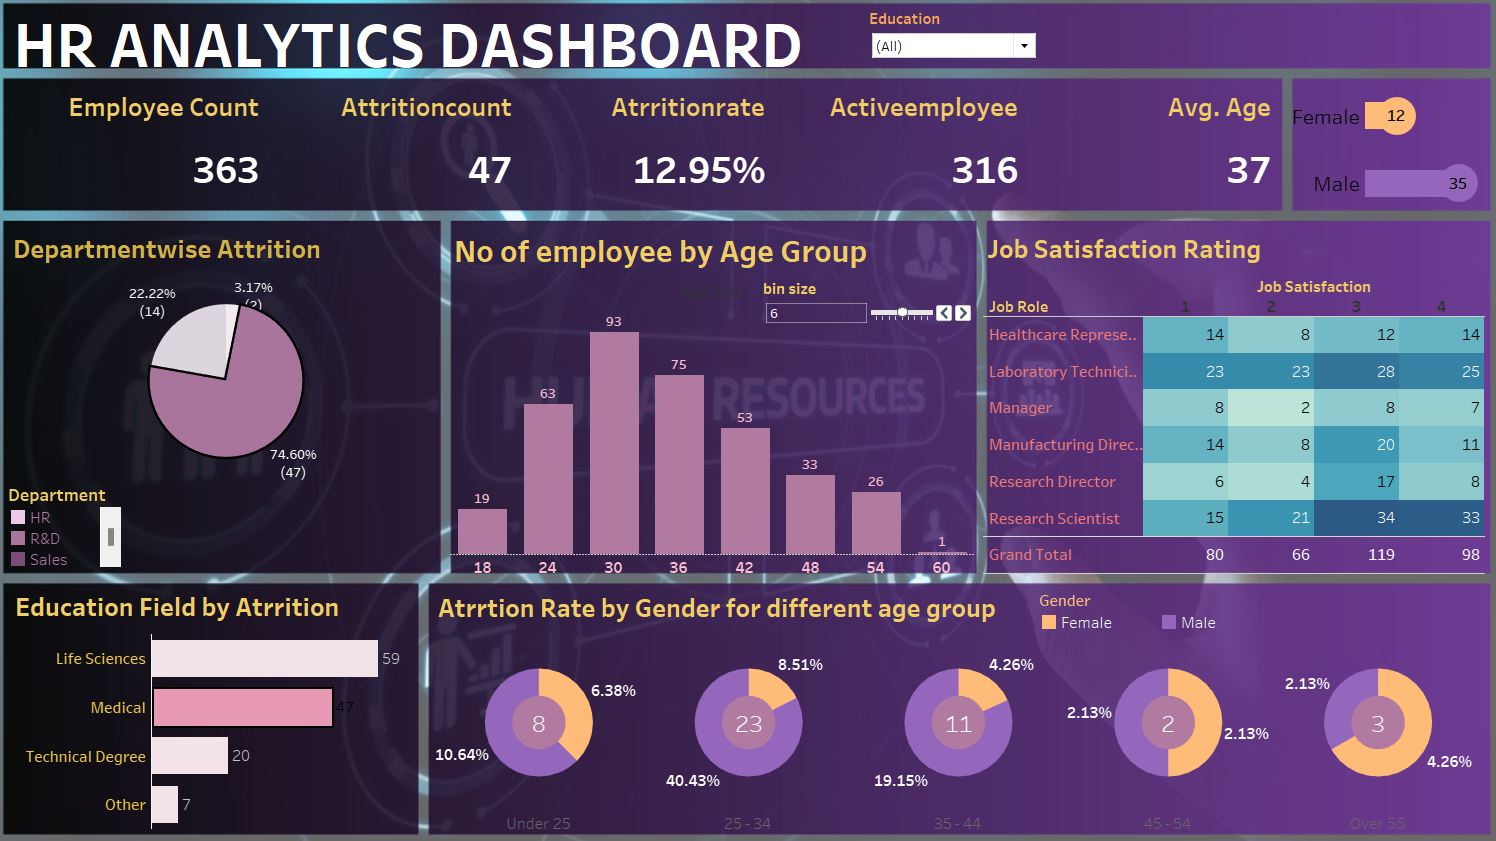

Layout of this report page (visuals, bound fields, positions):
{"tool":"tableau","page":{"name":"HR ANALYTICS  DASHBOARD","canvas":[1580,9000],"ordinal":0},"visuals":[{"type":"filter","title":"Departmentwise Attrition","param":"[federated.1fepv5j0e6olxk1ervnxv0krmdcb].[none:Education:nk]","box":[953,22,170,58]},{"type":"text","box":[94,25,938,63]},{"type":"worksheet","title":"Attrition by Gender","mark":"Automatic","rows":["Gender"],"cols":["Calculation_876231624499810304","Calculation_876231624499810304"],"box":[1369,96,198,135]},{"type":"worksheet","title":"KPI","mark":"Automatic","box":[94,97,1265,130]},{"type":"worksheet","title":"No of employee by Age Group","mark":"Automatic","rows":["Employee Count"],"cols":["Age (bin)"],"box":[534,239,525,354]},{"type":"worksheet","title":"Departmentwise Attrition","mark":"Pie","box":[93,241,434,258]},{"type":"worksheet","title":"Job Satisfaction Rating","mark":"Square","rows":["Job Role"],"cols":["Job Satisfaction"],"box":[1067,241,502,347]},{"type":"parameter","param":"[Parameters].[Parameter 1]","box":[847,292,211,51]},{"type":"legend","title":"Departmentwise Attrition","param":"[federated.1fepv5j0e6olxk1ervnxv0krmdcb].[none:Department:nk]","box":[92,496,115,85]},{"type":"worksheet","title":"Education Field by Atrrition","mark":"Automatic","rows":["Education Field"],"cols":["Calculation_876231624499810304"],"box":[95,599,405,244]},{"type":"worksheet","title":"Atrrtion Rate by Gender for different age group","mark":"Pie","rows":["Calculation_265712401339940865","Calculation_265712401339940865"],"cols":["CF_age band"],"box":[518,600,1049,249]},{"type":"legend","title":"Atrrtion Rate by Gender for different age group","param":"[federated.1fepv5j0e6olxk1ervnxv0krmdcb].[none:Gender:nk]","box":[1123,604,420,45]}]}

Visuals, with their boxes on the page's 1580x9000 design canvas (x1, y1, x2, y2). These are canvas units, not pixel positions in the 1496x841 screenshot, which may show the page scaled, cropped or inside an application window:
"Departmentwise Attrition" filter: <box>953,22,1123,80</box>
text: <box>94,25,1032,88</box>
"Attrition by Gender" worksheet: <box>1369,96,1567,231</box>
"KPI" worksheet: <box>94,97,1359,227</box>
"No of employee by Age Group" worksheet: <box>534,239,1059,593</box>
"Departmentwise Attrition" worksheet (Pie marks): <box>93,241,527,499</box>
"Job Satisfaction Rating" worksheet (Square marks): <box>1067,241,1569,588</box>
parameter: <box>847,292,1058,343</box>
"Departmentwise Attrition" legend: <box>92,496,207,581</box>
"Education Field by Atrrition" worksheet: <box>95,599,500,843</box>
"Atrrtion Rate by Gender for different age group" worksheet (Pie marks): <box>518,600,1567,849</box>
"Atrrtion Rate by Gender for different age group" legend: <box>1123,604,1543,649</box>
